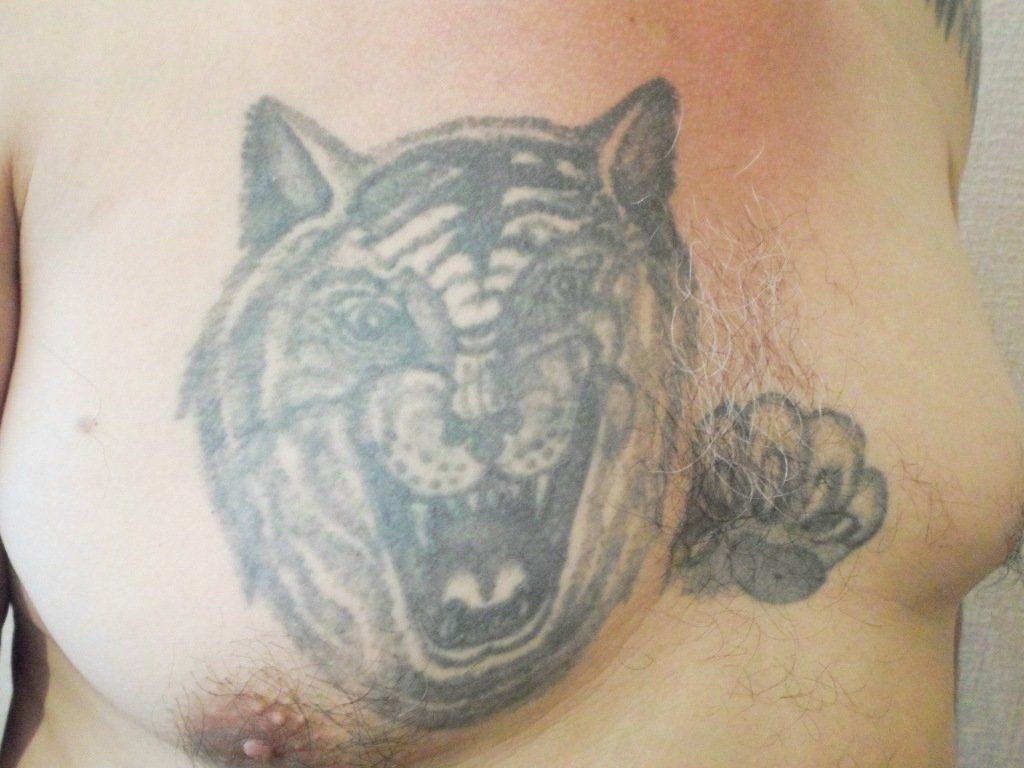tatu5_tigr: (121, 42, 968, 743)
